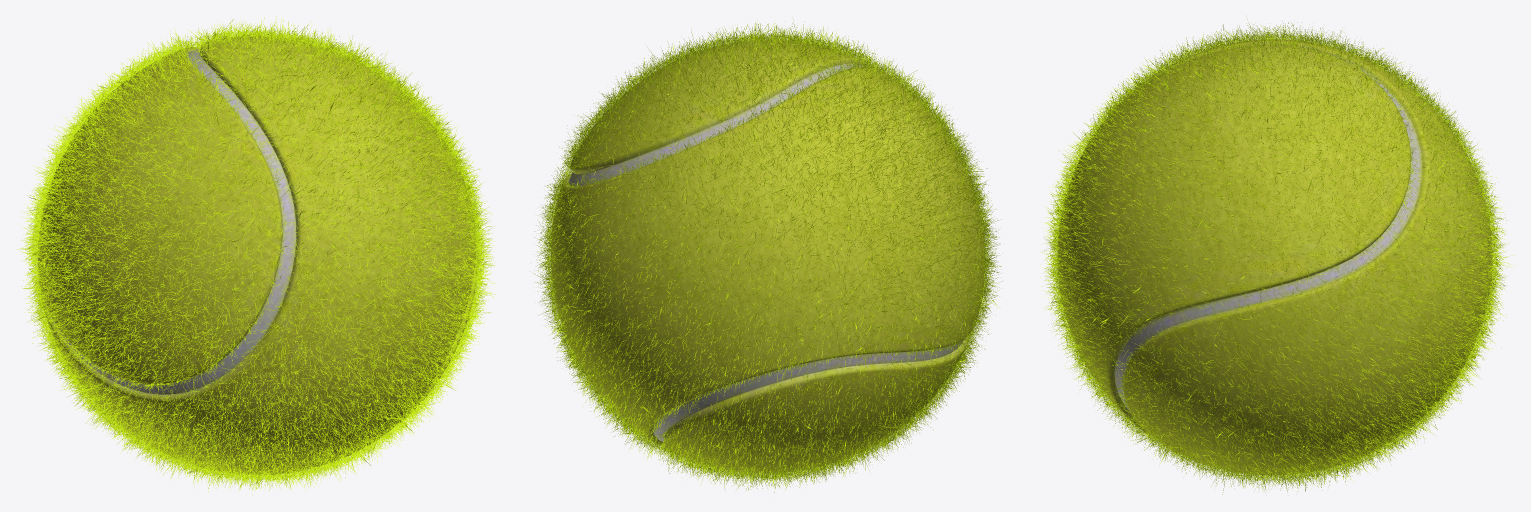
Rendered from ball_fuzz_0.25.glb.
3 renders of one model, left to right at view 1: azimuth 30°, elevation 25°; view 2: azimuth 150°, elevation 25°; view 3: azimuth 270°, elevation 25°, orthographic.
Visible parts, largest first — view 1: Object_2; view 2: Object_2; view 3: Object_2.
Part boxes in pixels (<box>): Object_2: <box>17,16,495,494</box>; Object_2: <box>534,17,1002,492</box>; Object_2: <box>1040,22,1515,494</box>.
Bounding box in the file's own units: 0.067 × 0.0668 × 0.0668.
2 materials, 1 textured.
